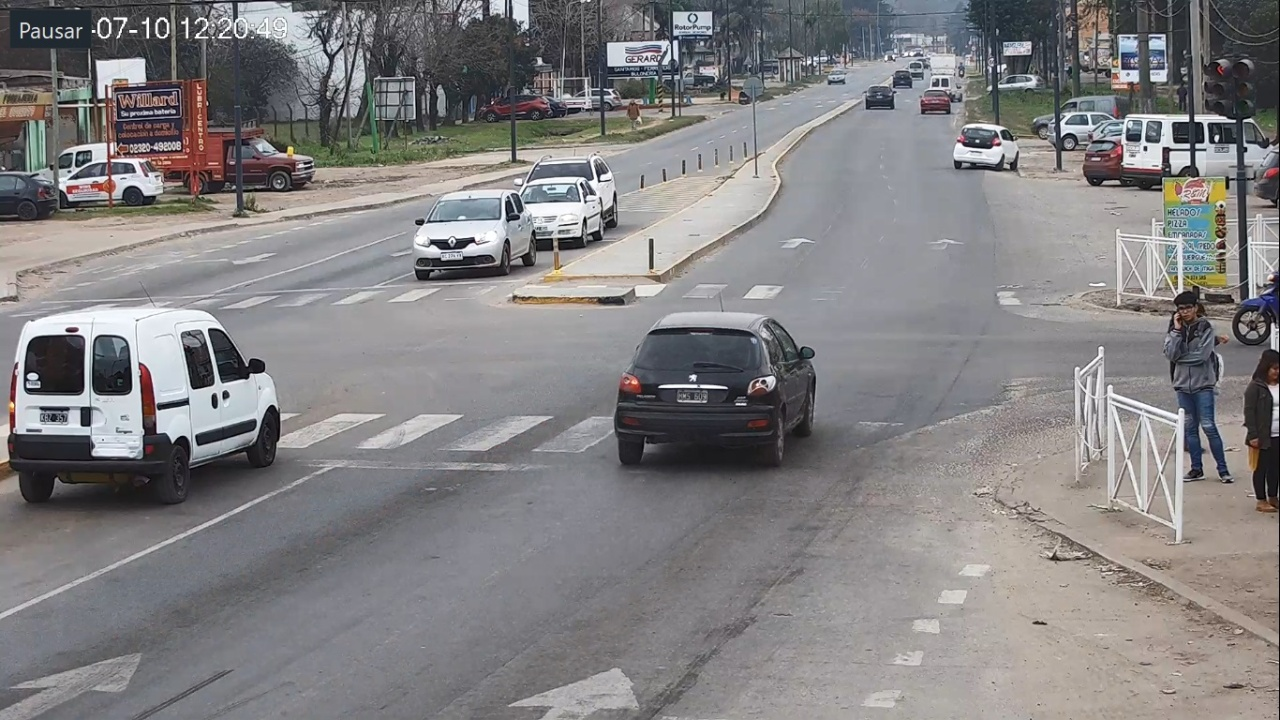car: (8, 307, 283, 504), (614, 311, 816, 464), (953, 123, 1019, 171)
front car: (413, 189, 536, 279)
